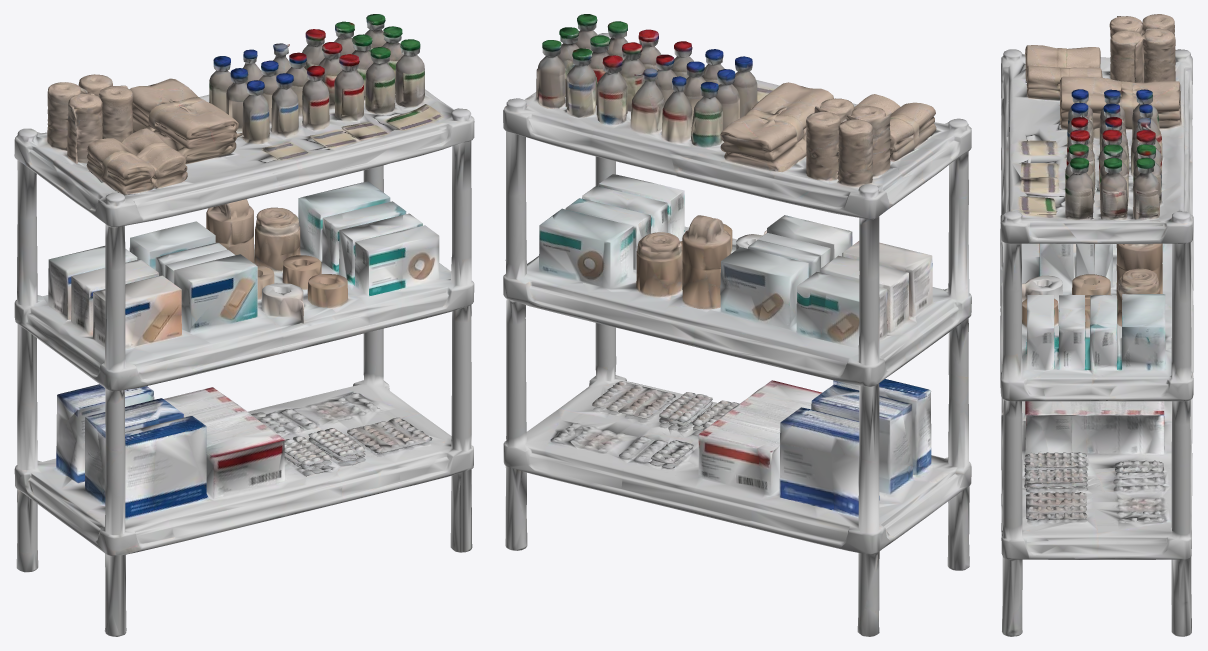
Rendered from dispensary-stockroom.glb.
The picture shows the model from 3 angles, left to right: view 1: azimuth 30°, elevation 25°; view 2: azimuth 150°, elevation 25°; view 3: azimuth 270°, elevation 25°; orthographic projection. The views are drawn at different scales.
Visible parts, largest first — view 1: mesh_node; view 2: mesh_node; view 3: mesh_node.
Boxes of the visible parts, <box> form: mesh_node: <box>14,14,474,636</box>; mesh_node: <box>503,14,971,636</box>; mesh_node: <box>1000,14,1193,636</box>.
Size of the model in its own units: 1.51 by 1.9 by 0.7178.
1 material, 1 textured.
